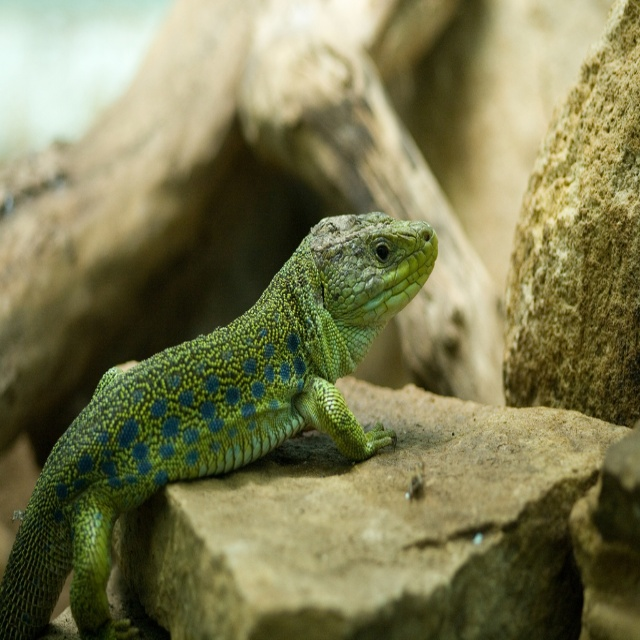Lizard: (0, 211, 439, 640)
